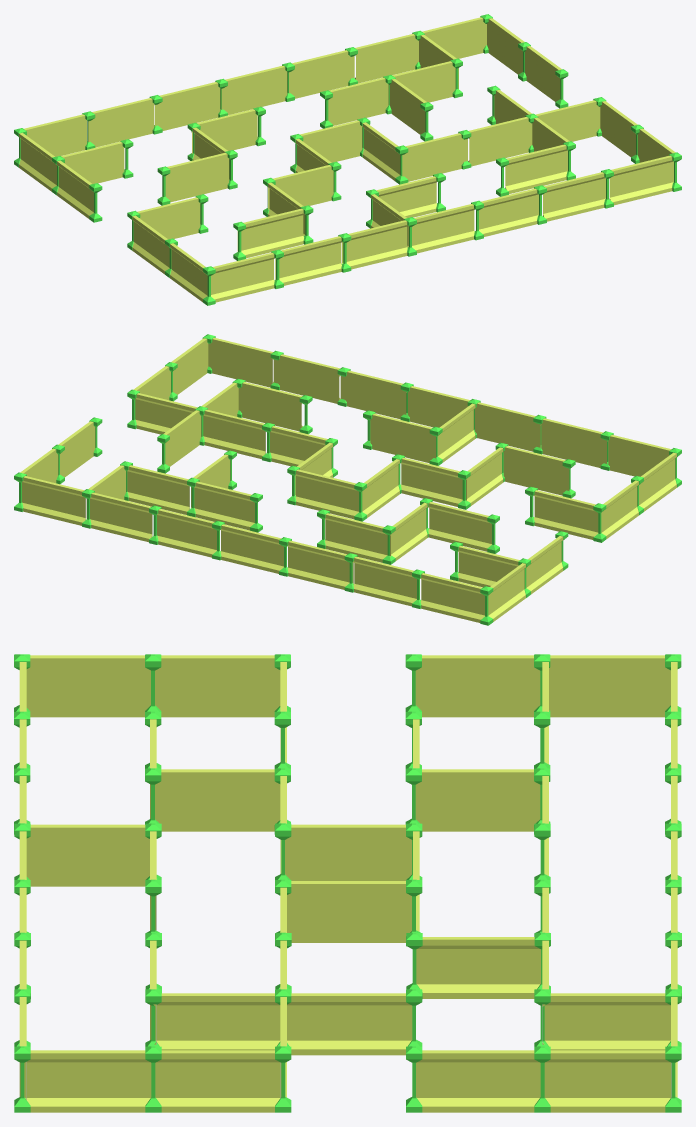
File: Maze.dae
The picture shows the model from 3 angles, top to bottom: view 1: azimuth 30°, elevation 25°; view 2: azimuth 150°, elevation 25°; view 3: azimuth 270°, elevation 25°; orthographic projection. The views are drawn at different scales.
Parts seen in each view (by area): view 1: node_3d814f24_8b4a_4f10_bf8f_6bf409443be1_mesh35, node_3d814f24_8b4a_4f10_bf8f_6bf409443be1_mesh56, node_3d814f24_8b4a_4f10_bf8f_6bf409443be1_mesh24, node_3d814f24_8b4a_4f10_bf8f_6bf409443be1_mesh47, node_3d814f24_8b4a_4f10_bf8f_6bf409443be1_mesh22, node_3d814f24_8b4a_4f10_bf8f_6bf409443be1_mesh98, node_3d814f24_8b4a_4f10_bf8f_6bf409443be1_mesh0, node_3d814f24_8b4a_4f10_bf8f_6bf409443be1_mesh95, node_3d814f24_8b4a_4f10_bf8f_6bf409443be1_mesh9, node_3d814f24_8b4a_4f10_bf8f_6bf409443be1_mesh93, node_3d814f24_8b4a_4f10_bf8f_6bf409443be1_mesh10, node_3d814f24_8b4a_4f10_bf8f_6bf409443be1_mesh94 (+33 smaller); view 2: node_3d814f24_8b4a_4f10_bf8f_6bf409443be1_mesh49, node_3d814f24_8b4a_4f10_bf8f_6bf409443be1_mesh95, node_3d814f24_8b4a_4f10_bf8f_6bf409443be1_mesh97, node_3d814f24_8b4a_4f10_bf8f_6bf409443be1_mesh57, node_3d814f24_8b4a_4f10_bf8f_6bf409443be1_mesh47, node_3d814f24_8b4a_4f10_bf8f_6bf409443be1_mesh41, node_3d814f24_8b4a_4f10_bf8f_6bf409443be1_mesh22, node_3d814f24_8b4a_4f10_bf8f_6bf409443be1_mesh87, node_3d814f24_8b4a_4f10_bf8f_6bf409443be1_mesh89, node_3d814f24_8b4a_4f10_bf8f_6bf409443be1_mesh34, node_3d814f24_8b4a_4f10_bf8f_6bf409443be1_mesh88, node_3d814f24_8b4a_4f10_bf8f_6bf409443be1_mesh96 (+33 smaller); view 3: node_3d814f24_8b4a_4f10_bf8f_6bf409443be1_mesh48, node_3d814f24_8b4a_4f10_bf8f_6bf409443be1_mesh8, node_3d814f24_8b4a_4f10_bf8f_6bf409443be1_mesh77, node_3d814f24_8b4a_4f10_bf8f_6bf409443be1_mesh18, node_3d814f24_8b4a_4f10_bf8f_6bf409443be1_mesh59, node_3d814f24_8b4a_4f10_bf8f_6bf409443be1_mesh69, node_3d814f24_8b4a_4f10_bf8f_6bf409443be1_mesh61, node_3d814f24_8b4a_4f10_bf8f_6bf409443be1_mesh72, node_3d814f24_8b4a_4f10_bf8f_6bf409443be1_mesh79, node_3d814f24_8b4a_4f10_bf8f_6bf409443be1_mesh27, node_3d814f24_8b4a_4f10_bf8f_6bf409443be1_mesh6, node_3d814f24_8b4a_4f10_bf8f_6bf409443be1_mesh58 (+5 smaller).
Boxes of the visible parts, bbox=[...] form: node_3d814f24_8b4a_4f10_bf8f_6bf409443be1_mesh35: bbox=[221, 65, 287, 114]; node_3d814f24_8b4a_4f10_bf8f_6bf409443be1_mesh56: bbox=[154, 82, 220, 130]; node_3d814f24_8b4a_4f10_bf8f_6bf409443be1_mesh24: bbox=[88, 98, 153, 147]; node_3d814f24_8b4a_4f10_bf8f_6bf409443be1_mesh47: bbox=[609, 155, 673, 205]; node_3d814f24_8b4a_4f10_bf8f_6bf409443be1_mesh22: bbox=[341, 220, 407, 269]; node_3d814f24_8b4a_4f10_bf8f_6bf409443be1_mesh98: bbox=[211, 252, 274, 302]; node_3d814f24_8b4a_4f10_bf8f_6bf409443be1_mesh0: bbox=[165, 152, 228, 202]; node_3d814f24_8b4a_4f10_bf8f_6bf409443be1_mesh95: bbox=[237, 208, 304, 258]; node_3d814f24_8b4a_4f10_bf8f_6bf409443be1_mesh9: bbox=[408, 204, 474, 253]; node_3d814f24_8b4a_4f10_bf8f_6bf409443be1_mesh93: bbox=[468, 117, 532, 166]; node_3d814f24_8b4a_4f10_bf8f_6bf409443be1_mesh10: bbox=[289, 50, 354, 98]; node_3d814f24_8b4a_4f10_bf8f_6bf409443be1_mesh94: bbox=[402, 133, 467, 181]; node_3d814f24_8b4a_4f10_bf8f_6bf409443be1_mesh49: bbox=[273, 354, 340, 403]; node_3d814f24_8b4a_4f10_bf8f_6bf409443be1_mesh95: bbox=[503, 446, 569, 495]; node_3d814f24_8b4a_4f10_bf8f_6bf409443be1_mesh97: bbox=[541, 418, 607, 467]; node_3d814f24_8b4a_4f10_bf8f_6bf409443be1_mesh57: bbox=[370, 413, 435, 463]; node_3d814f24_8b4a_4f10_bf8f_6bf409443be1_mesh47: bbox=[208, 337, 273, 387]; node_3d814f24_8b4a_4f10_bf8f_6bf409443be1_mesh41: bbox=[534, 490, 598, 539]; node_3d814f24_8b4a_4f10_bf8f_6bf409443be1_mesh22: bbox=[475, 402, 541, 451]; node_3d814f24_8b4a_4f10_bf8f_6bf409443be1_mesh87: bbox=[420, 573, 484, 622]; node_3d814f24_8b4a_4f10_bf8f_6bf409443be1_mesh89: bbox=[22, 476, 85, 525]; node_3d814f24_8b4a_4f10_bf8f_6bf409443be1_mesh34: bbox=[340, 370, 406, 419]; node_3d814f24_8b4a_4f10_bf8f_6bf409443be1_mesh88: bbox=[86, 492, 152, 542]; node_3d814f24_8b4a_4f10_bf8f_6bf409443be1_mesh96: bbox=[238, 382, 302, 431]; node_3d814f24_8b4a_4f10_bf8f_6bf409443be1_mesh48: bbox=[24, 1050, 151, 1112]; node_3d814f24_8b4a_4f10_bf8f_6bf409443be1_mesh8: bbox=[544, 1050, 671, 1112]; node_3d814f24_8b4a_4f10_bf8f_6bf409443be1_mesh77: bbox=[155, 1050, 281, 1112]; node_3d814f24_8b4a_4f10_bf8f_6bf409443be1_mesh18: bbox=[287, 993, 412, 1055]; node_3d814f24_8b4a_4f10_bf8f_6bf409443be1_mesh59: bbox=[155, 655, 280, 717]; node_3d814f24_8b4a_4f10_bf8f_6bf409443be1_mesh69: bbox=[155, 769, 280, 831]; node_3d814f24_8b4a_4f10_bf8f_6bf409443be1_mesh61: bbox=[26, 655, 150, 717]; node_3d814f24_8b4a_4f10_bf8f_6bf409443be1_mesh72: bbox=[26, 824, 149, 886]; node_3d814f24_8b4a_4f10_bf8f_6bf409443be1_mesh79: bbox=[416, 1050, 540, 1112]; node_3d814f24_8b4a_4f10_bf8f_6bf409443be1_mesh27: bbox=[415, 655, 540, 717]; node_3d814f24_8b4a_4f10_bf8f_6bf409443be1_mesh6: bbox=[415, 769, 540, 831]; node_3d814f24_8b4a_4f10_bf8f_6bf409443be1_mesh58: bbox=[549, 655, 670, 717].
Bounding box in the file's own units: 3613 × 265 × 2556.
